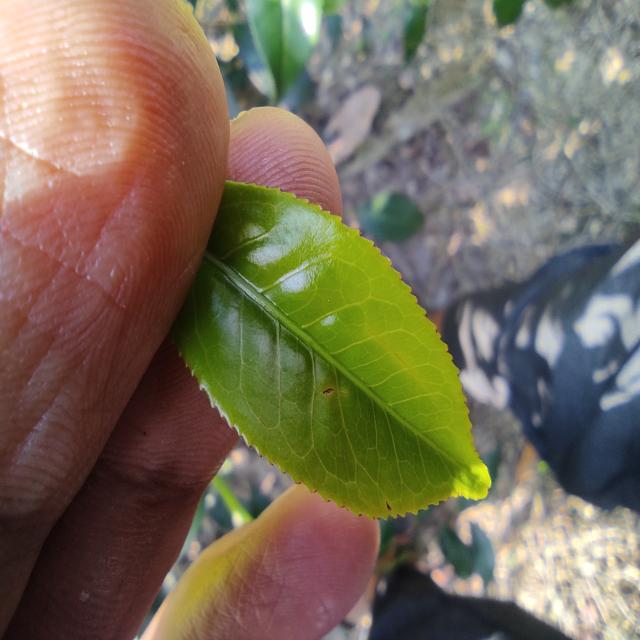Category B 2-4 days: (159, 173, 496, 524)
